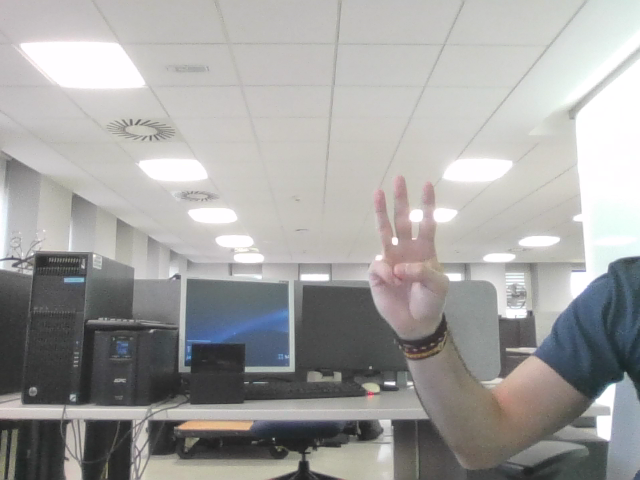3Dedos: (381, 188, 436, 305)
